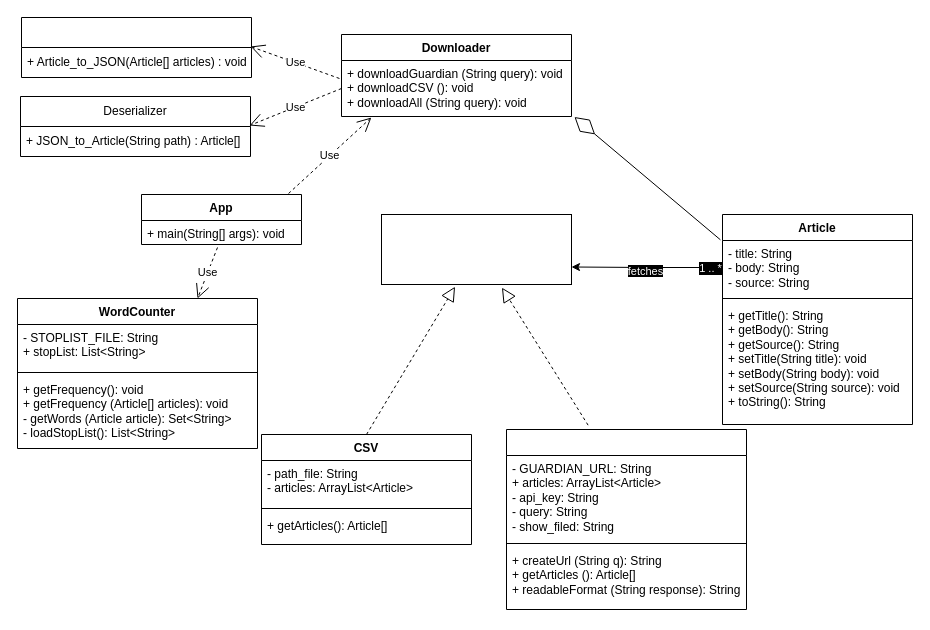
The diagram is 930 pixels wide and 630 high, and some of its shapes have lost their labels. Here are the shapes that lost their labels. From the top down, the box of each, then its label:
(20, 16, 252, 78): Serializer
(380, 214, 572, 284): <<Interface>> SourceInterface + getArticles(): Article[]
(506, 428, 746, 610): TheGuardian
